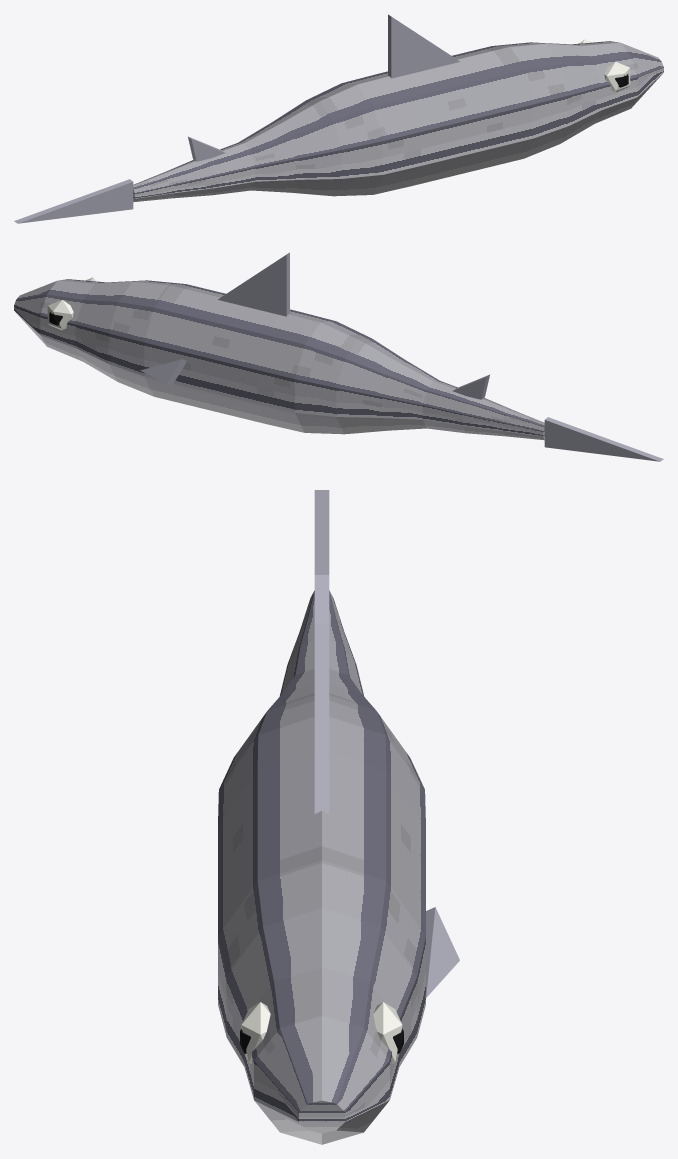
The model's file is ghost_shark.glb.
3 views of the same model, one above another, from view 1: azimuth 30°, elevation 25°; view 2: azimuth 150°, elevation 25°; view 3: azimuth 270°, elevation 25° (orthographic). The views are drawn at different scales.
Visible parts, largest first — view 1: fish_ghost_shark; view 2: fish_ghost_shark; view 3: fish_ghost_shark.
Part boxes in pixels (<box>): fish_ghost_shark: <box>14,14,663,223</box>; fish_ghost_shark: <box>14,252,663,461</box>; fish_ghost_shark: <box>218,490,459,1144</box>.
Size of the model in its own units: 1.22 by 0.31 by 0.1993.
4 materials, 1 textured.
